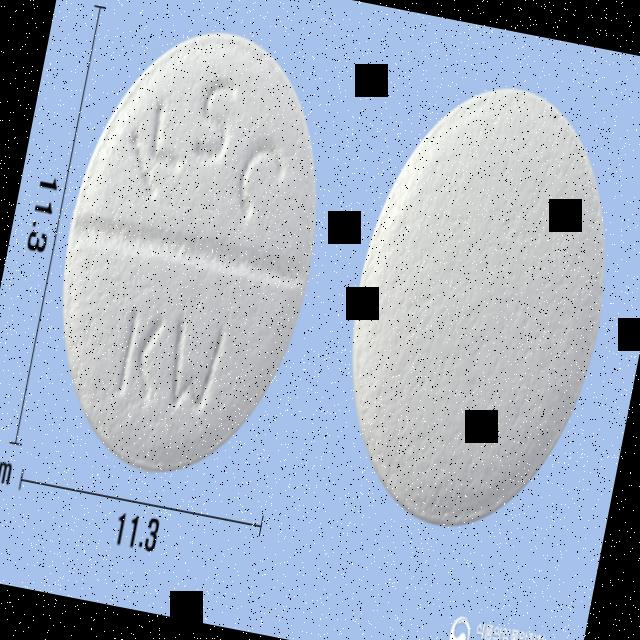K-Sacin: (27, 9, 352, 494)
